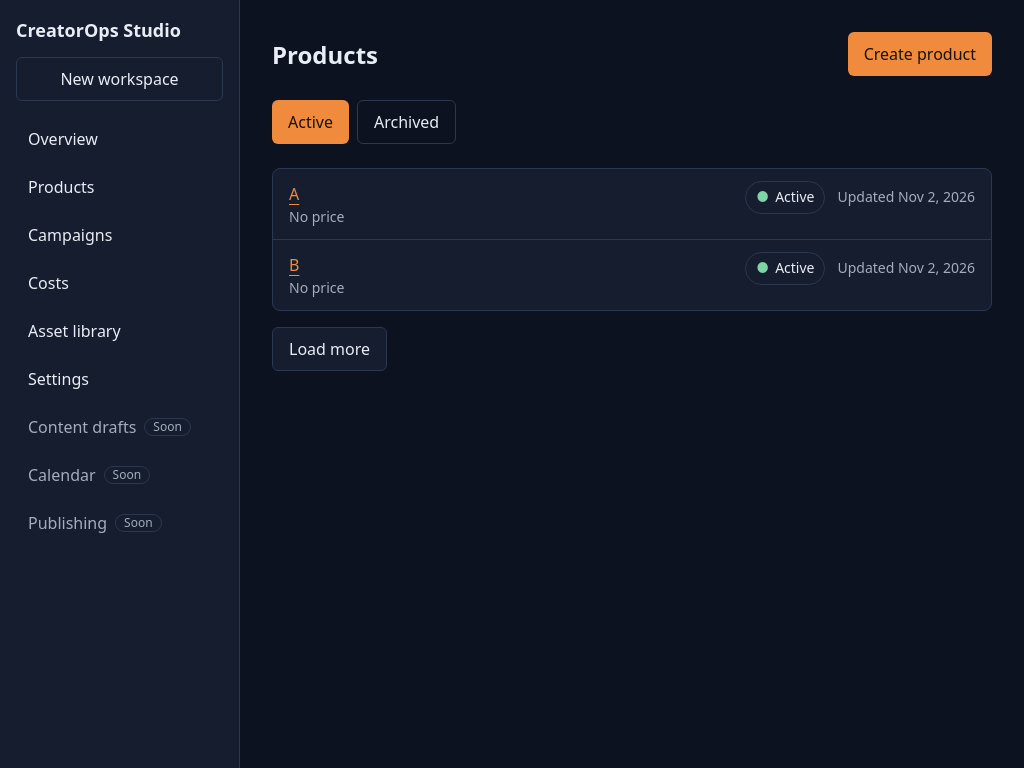
Test: ProductsPage › loads the next page with Load more until nextCursor is null
Expected: the link "B" is shown, [289, 254, 299, 276]
Step 1. Click the button "Load more" → (330,349), box [272, 327, 387, 371]
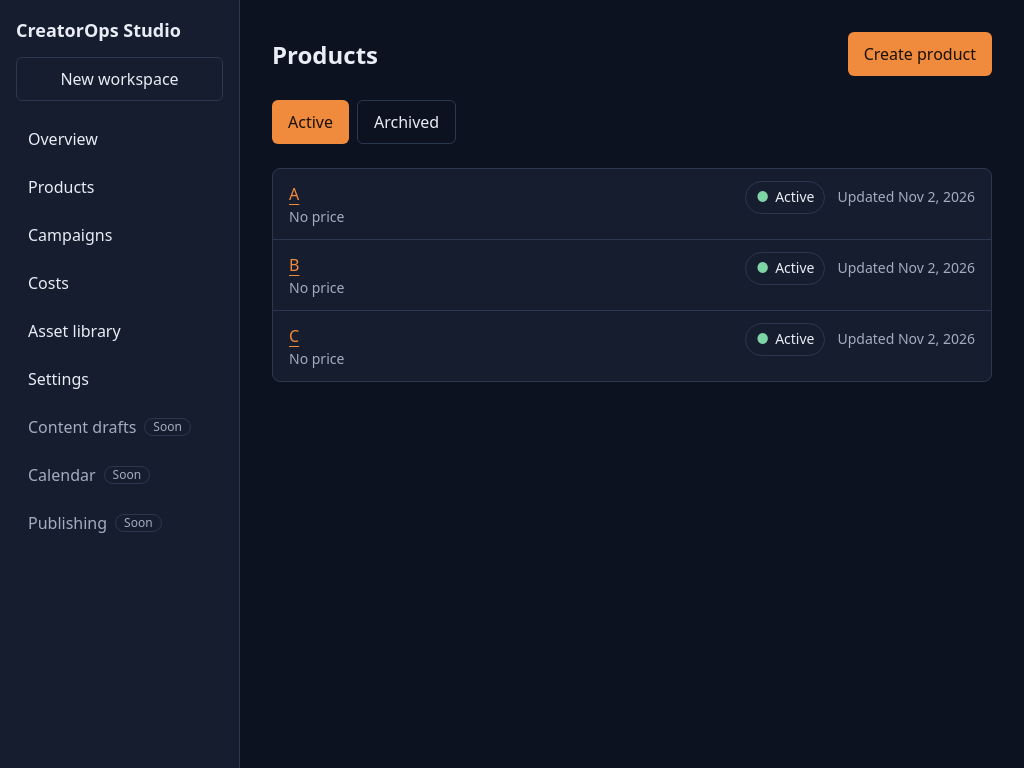
Expected: the link "C" is shown, [289, 325, 299, 347]
Expected: the button "Load more" is gone
